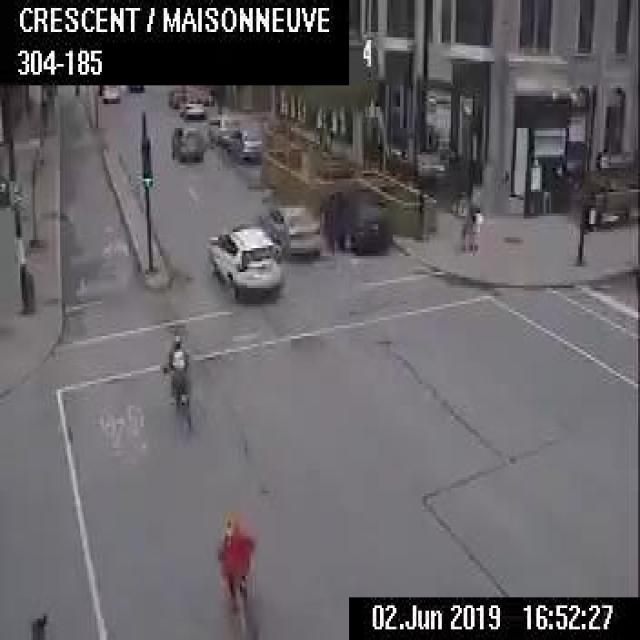cyclist: (216, 517, 249, 624), (158, 331, 189, 418)
pedestrian: (459, 204, 472, 251), (470, 205, 482, 251)
vehicle: (206, 223, 284, 298), (318, 185, 391, 251), (258, 204, 321, 255), (170, 124, 203, 158), (229, 126, 261, 157), (207, 114, 237, 140), (165, 86, 191, 105), (180, 95, 204, 115), (100, 83, 120, 101)
